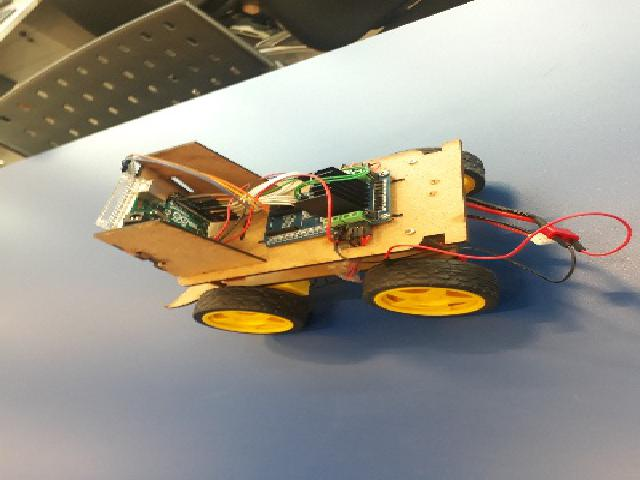Robot: (91, 140, 494, 334)
